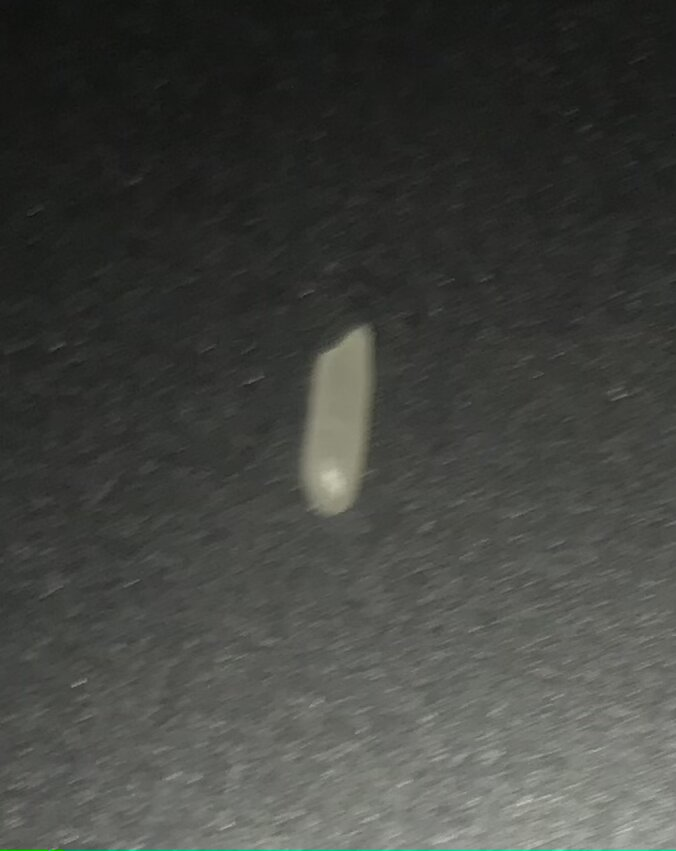Gao Long Lai: (290, 318, 384, 524)
